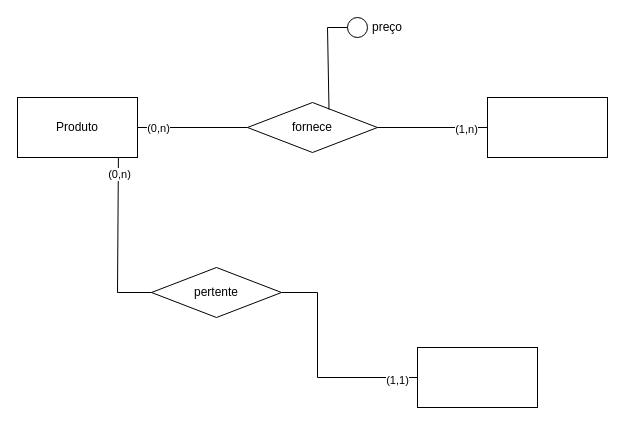
The diagram is 625 pixels wide and 425 high, and some of its shapes have lost their labels. The box of each missing label's shape, as (x1, y1, x2, y2) in pixels:
Fornecedor: (486, 96, 608, 158)
Grupo_Produto: (416, 346, 538, 408)
